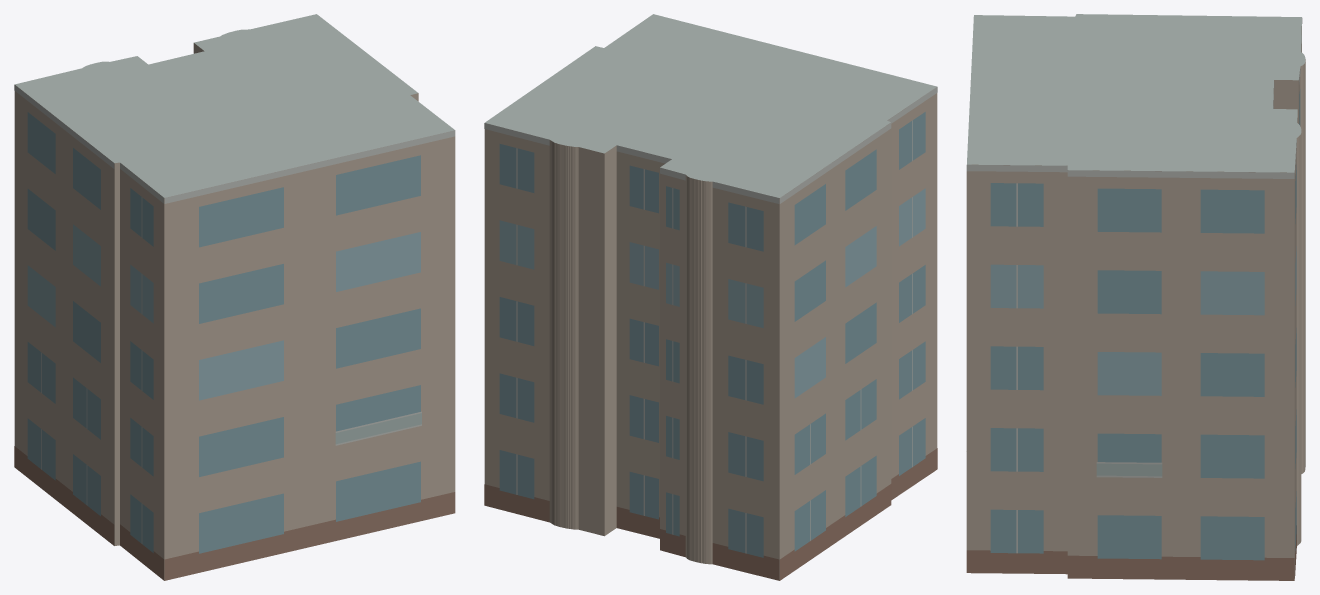
Rendered from survey-upis-32654205.glb.
3 views of the same model, side by side, from view 1: azimuth 30°, elevation 25°; view 2: azimuth 150°, elevation 25°; view 3: azimuth 270°, elevation 25° (orthographic). The views are drawn at different scales.
Parts seen in each view (by area): view 1: survey-upis-32654205.tmp; view 2: survey-upis-32654205.tmp; view 3: survey-upis-32654205.tmp.
Boxes of the visible parts, <box> form: survey-upis-32654205.tmp: <box>14,14,455,580</box>; survey-upis-32654205.tmp: <box>484,14,937,580</box>; survey-upis-32654205.tmp: <box>966,14,1305,580</box>.
Bounding box in the file's own units: 12.75 × 15.3 × 11.51.
